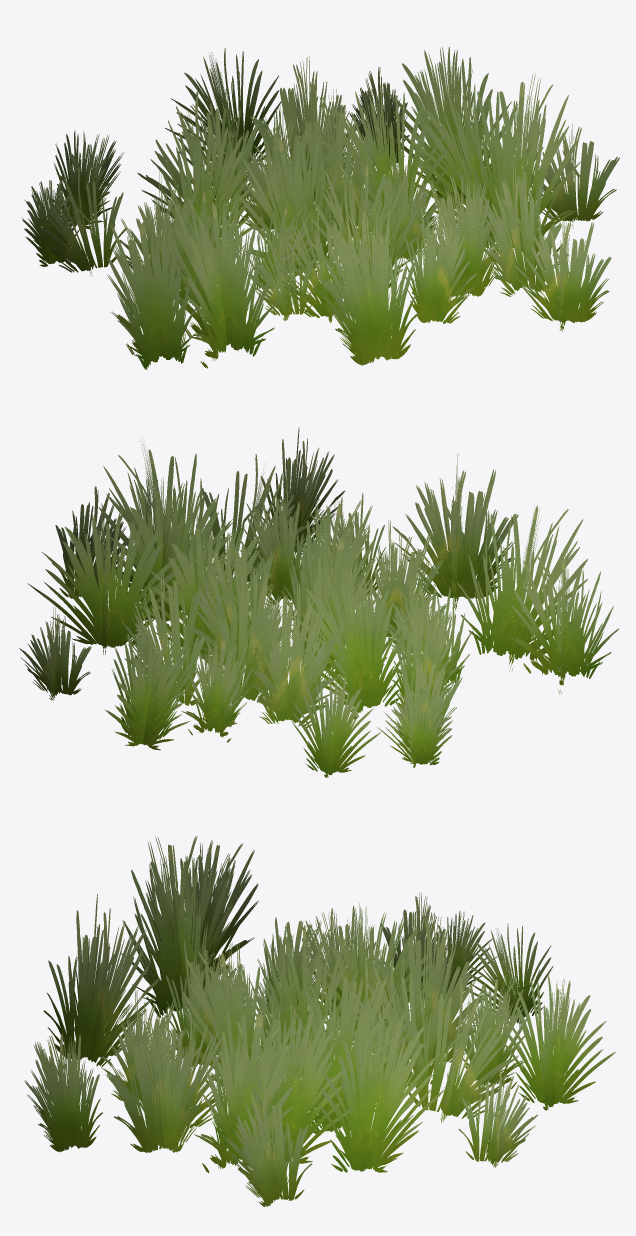
The model's file is grass_blades.FBX.
3 renders of one model, top to bottom at view 1: azimuth 30°, elevation 25°; view 2: azimuth 150°, elevation 25°; view 3: azimuth 270°, elevation 25°, orthographic. The views are drawn at different scales.
Visible parts, largest first — view 1: grass_shrub006; view 2: grass_shrub006; view 3: grass_shrub006.
Part boxes in pixels (left/top/right/bottom): grass_shrub006: left=22, top=46, right=619, bottom=369; grass_shrub006: left=19, top=427, right=618, bottom=777; grass_shrub006: left=24, top=836, right=615, bottom=1206.
Size of the model in its own units: 66.94 by 22.46 by 64.71.
1 material, 1 textured.
